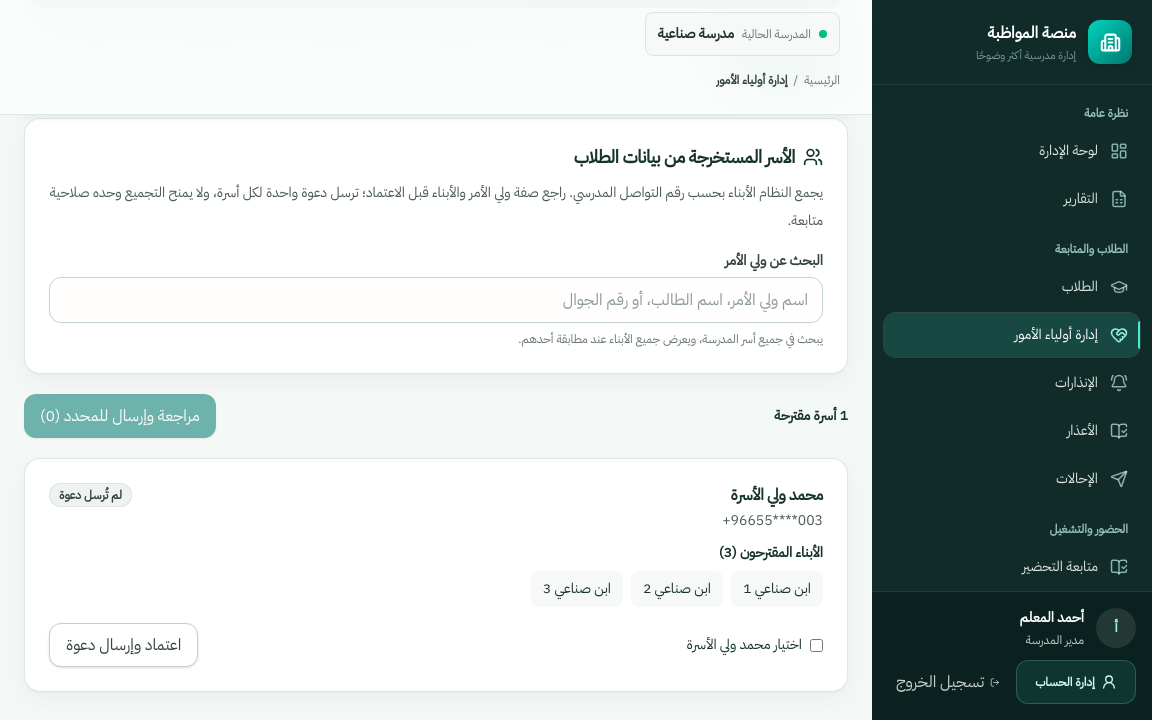
reviewed school families and private invitation › SCHOOL_MANAGER reviews exact children before one SMS
(page scrolled)
Click the button "اعتماد وإرسال دعوة": (124, 645) [49,623,198,667]
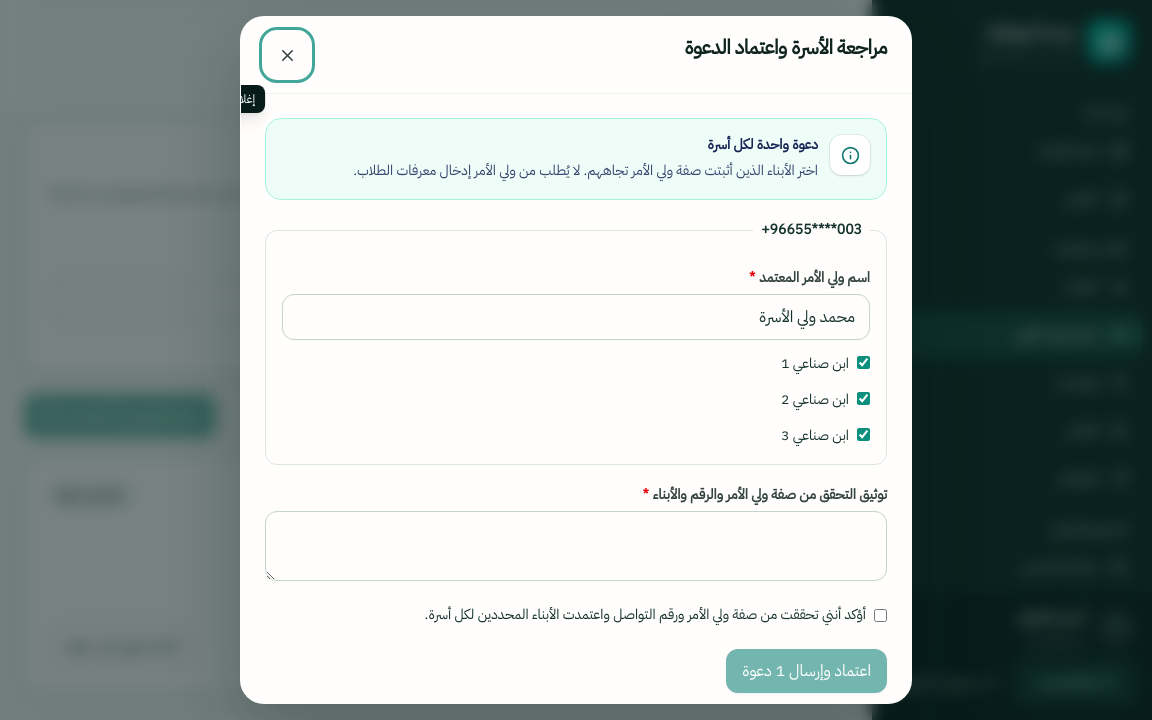
Expected: the button "اعتماد وإرسال 1 دعوة" is disabled, [726,649,887,693]
Click the checkbox labelled "ابن صناعي 2": (864, 398) [857,392,870,405]
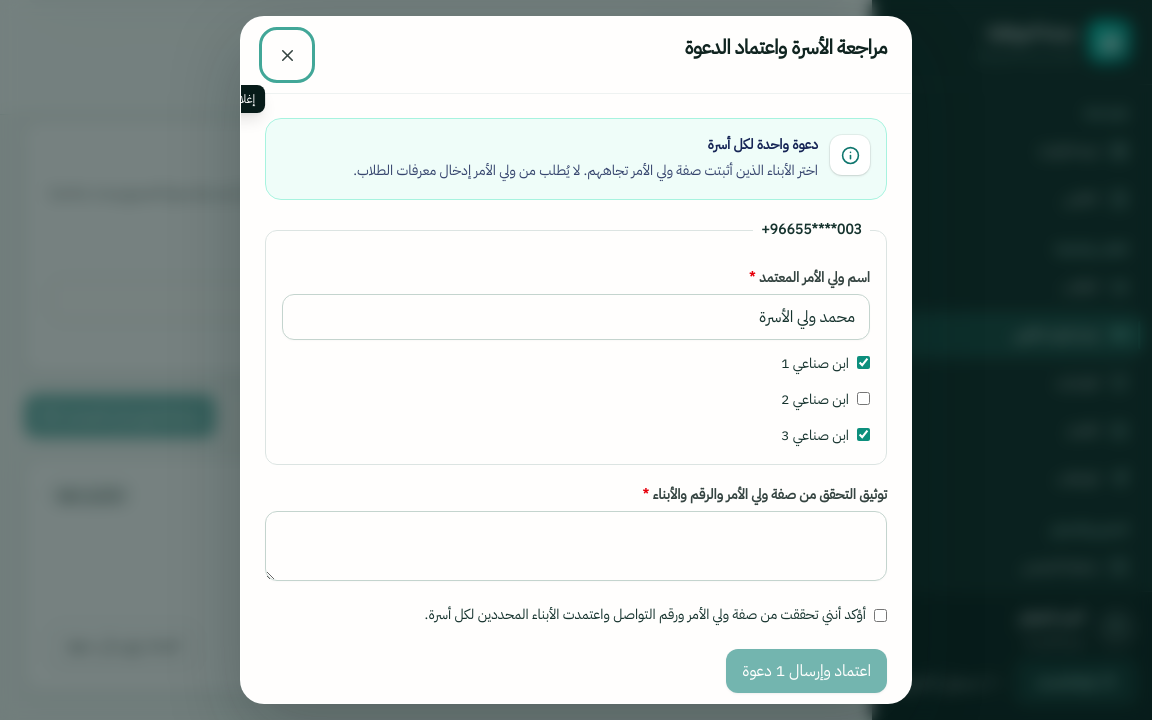
In the text box labelled "توثيق التحقق من صفة ولي الأمر والرقم والأبناء": (576, 546) [265,511,887,581], type "تحقق حضوري مستقل من الأبناء المحددين"
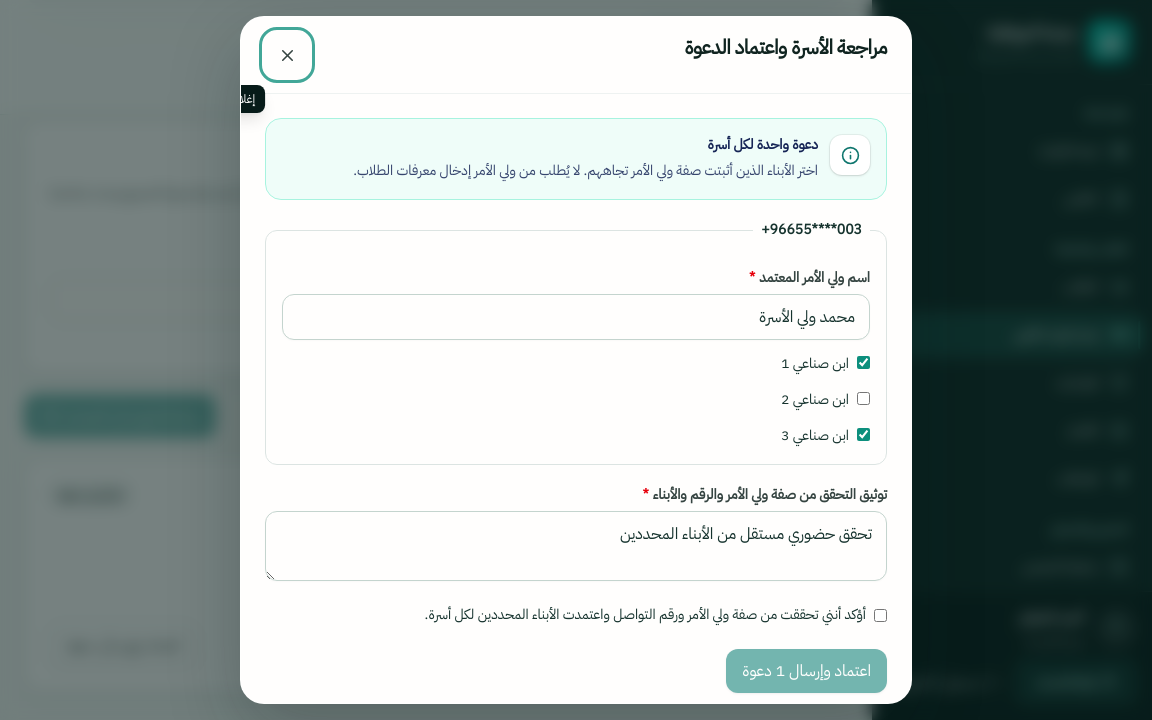
Click the checkbox labelled "أؤكد أنني تحققت": (880, 616) [874,609,887,622]
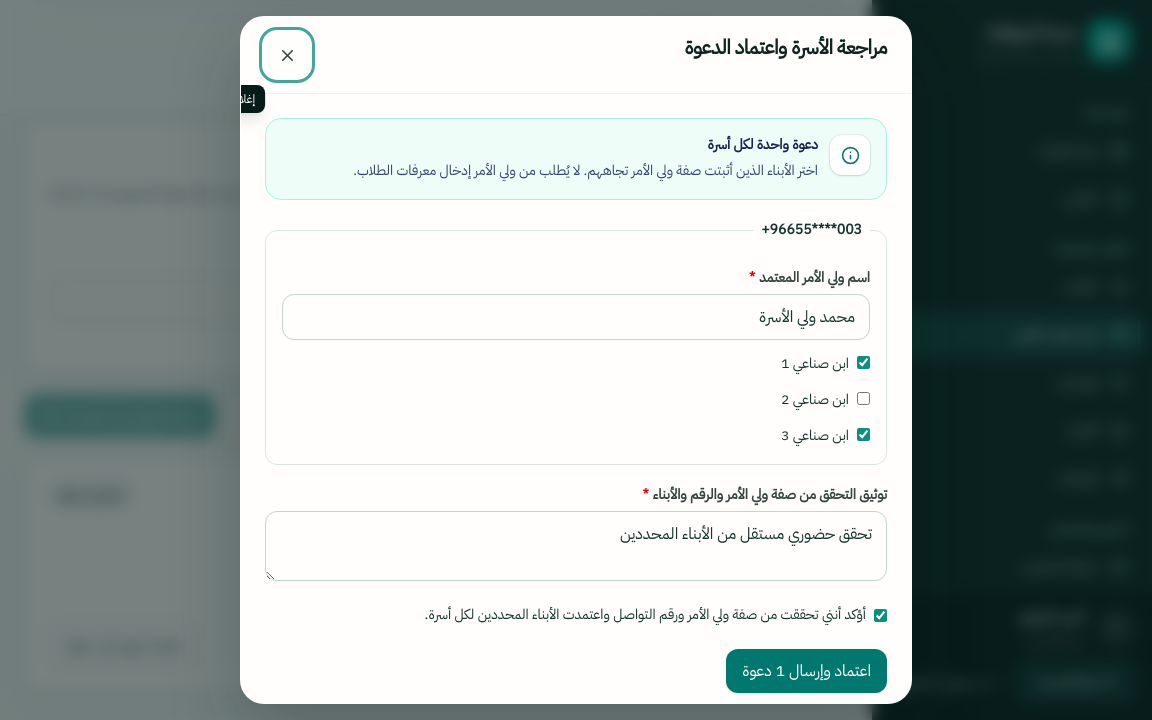
Click the button "اعتماد وإرسال 1 دعوة": (807, 671) [726,649,887,693]
(page scrolled)
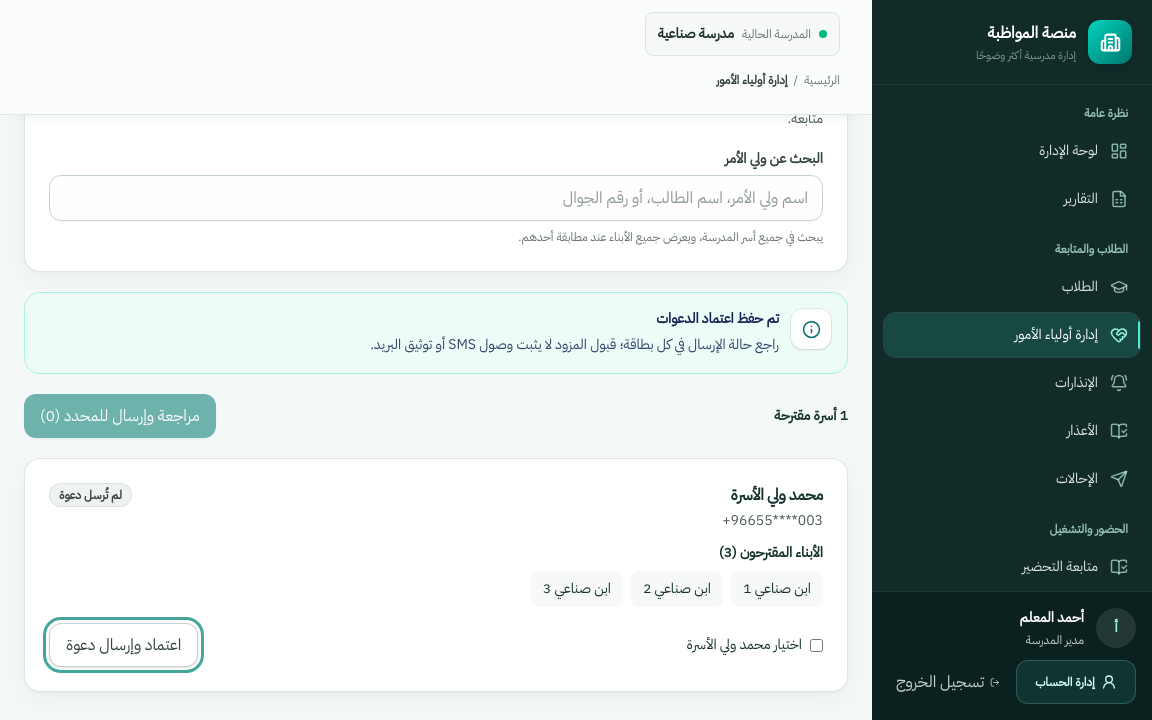
Expected: the text "تم حفظ اعتماد الدعوات" is shown, [656,308,779,329]
Expected: the dialog is gone
